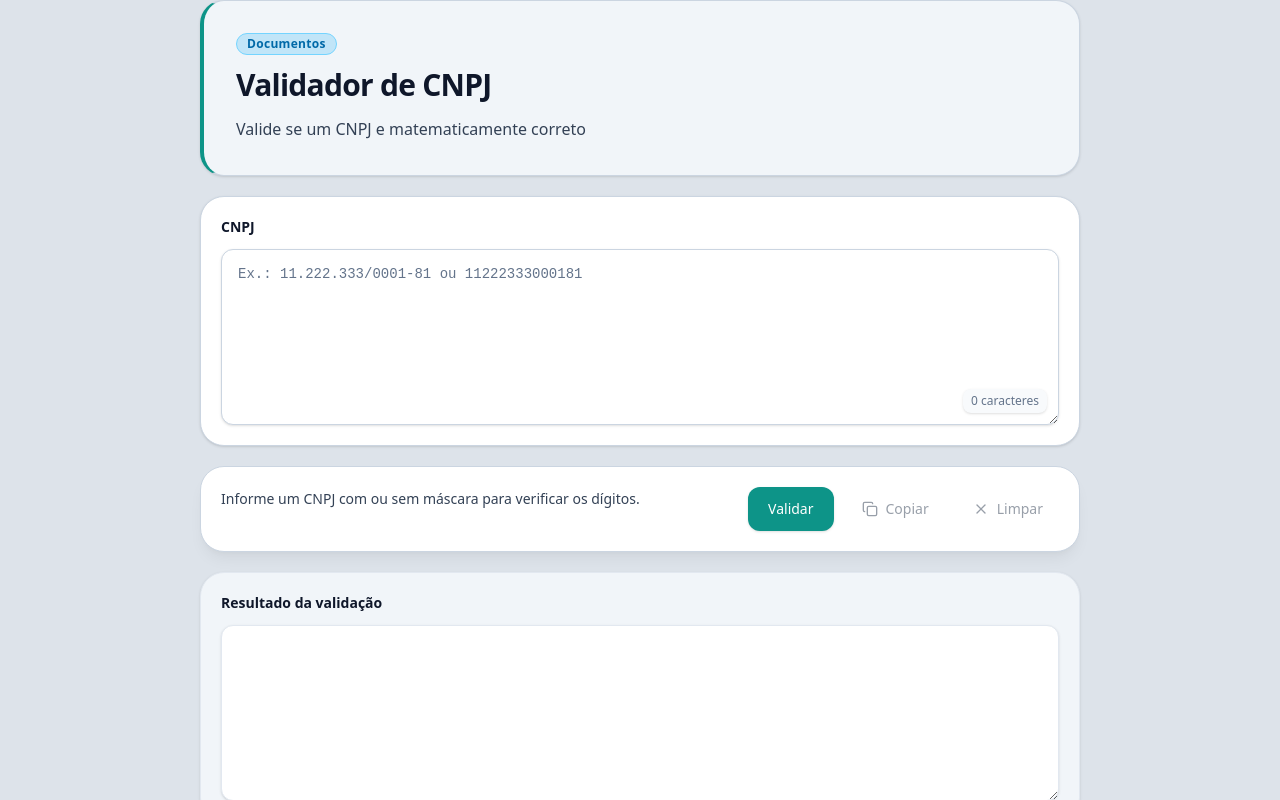
it: CnpjValidatorPage › exibe toast de erro quando o CNPJ nao pode ser validado
Step 1. Click the button "Validar" → (791, 509), box [748,487,834,531]
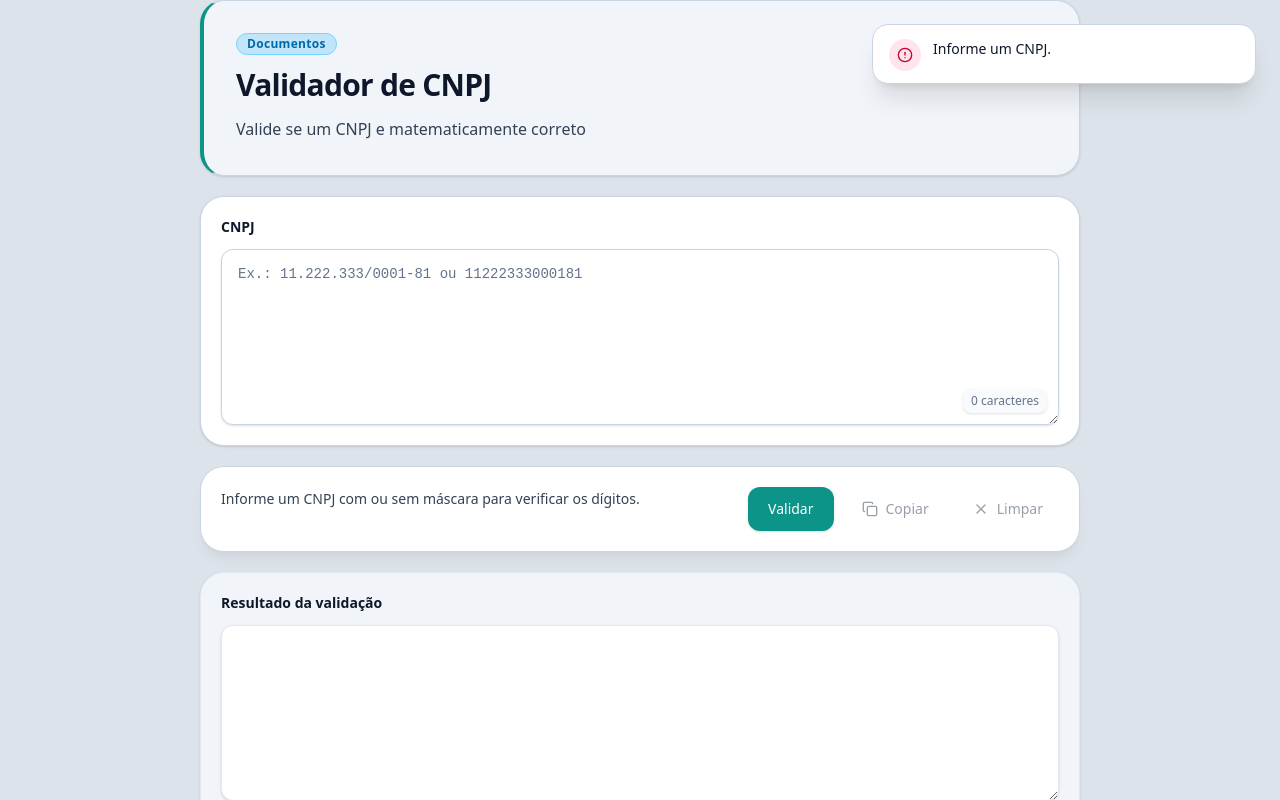
Expected: the text box labelled "Resultado da validação" is empty, [221,625,1059,799]
Now the text "Informe um CNPJ." is shown, box [933,37,1051,61]
